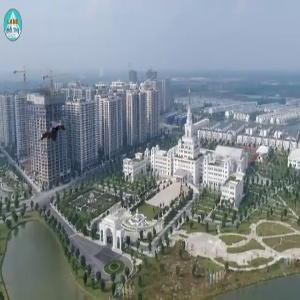drone: (36, 118, 73, 155)
